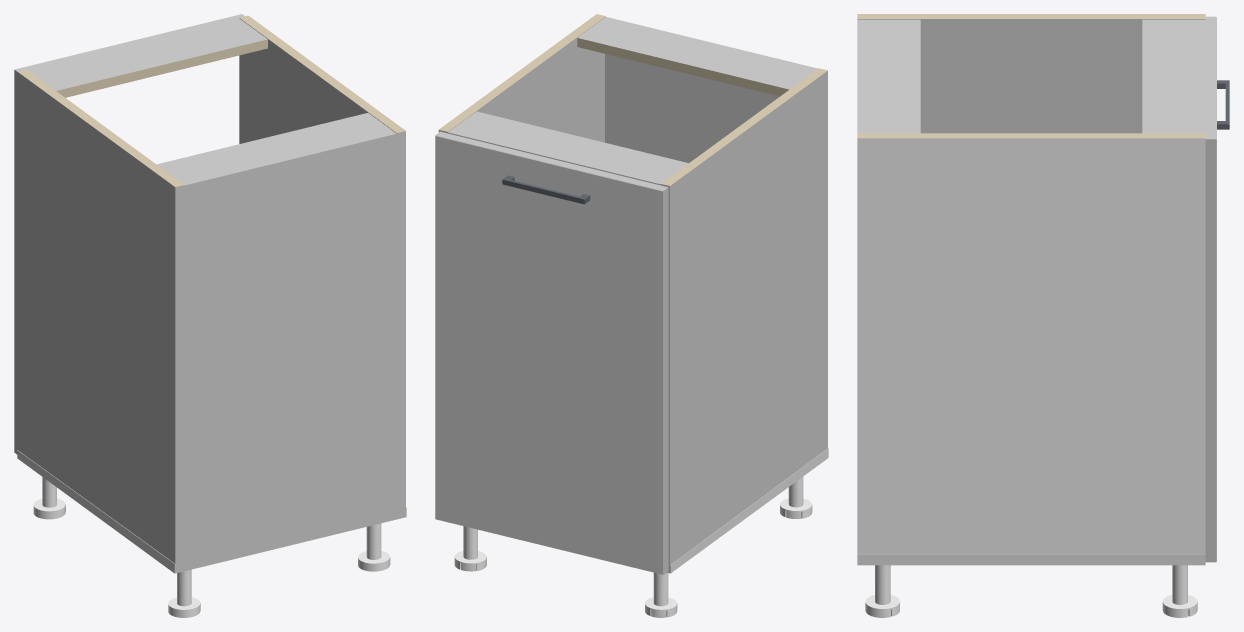
The picture shows the model from 3 angles, left to right: view 1: azimuth 30°, elevation 25°; view 2: azimuth 150°, elevation 25°; view 3: azimuth 270°, elevation 25°; orthographic projection. The views are drawn at different scales.
Visible parts, largest first — view 1: Model; view 2: Model; view 3: Model.
Boxes of the visible parts, box(x1,y1,x2,y2) form: Model: box(14, 14, 406, 617); Model: box(435, 14, 828, 617); Model: box(857, 14, 1229, 617).
Bounding box in the file's own units: 452 × 815 × 569.
